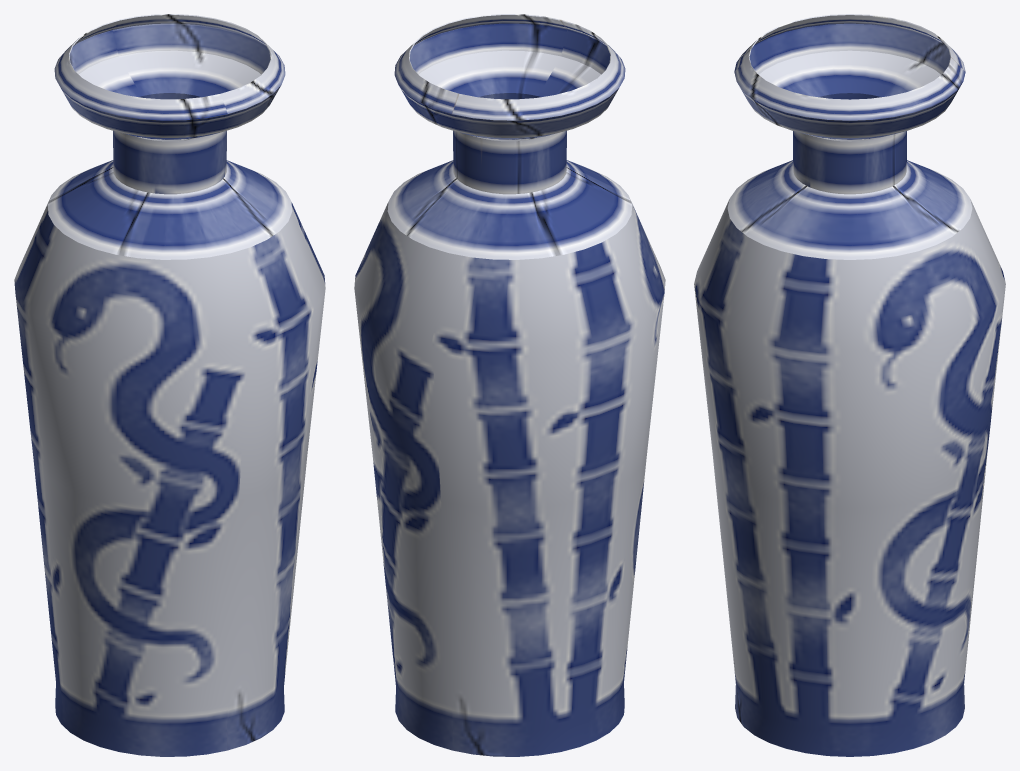
Rendered from Vase.fbx.
The picture shows the model from 3 angles, left to right: view 1: azimuth 30°, elevation 25°; view 2: azimuth 150°, elevation 25°; view 3: azimuth 270°, elevation 25°; orthographic projection.
Parts seen in each view (by area): view 1: Vase; view 2: Vase; view 3: Vase.
Part boxes in pixels (<box>): Vase: <box>14,14,325,756</box>; Vase: <box>354,14,665,756</box>; Vase: <box>694,14,1005,756</box>.
Size of the model in its own units: 1.3 by 3 by 1.3.
